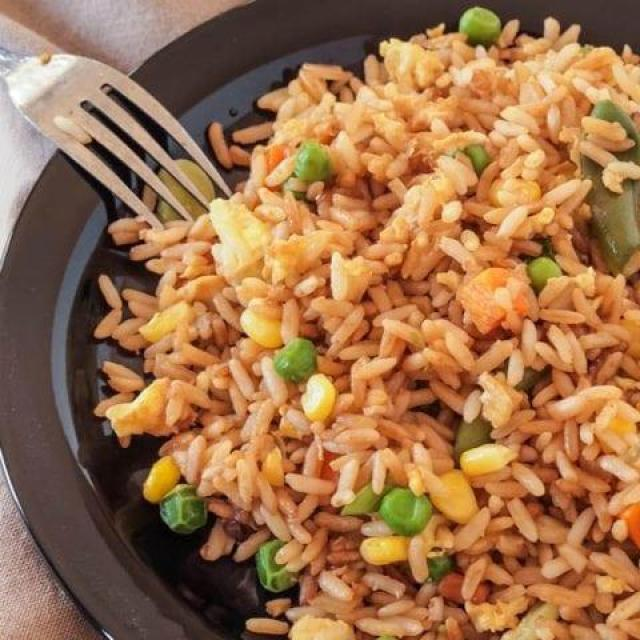Nasi Goreng: (91, 5, 638, 639)
